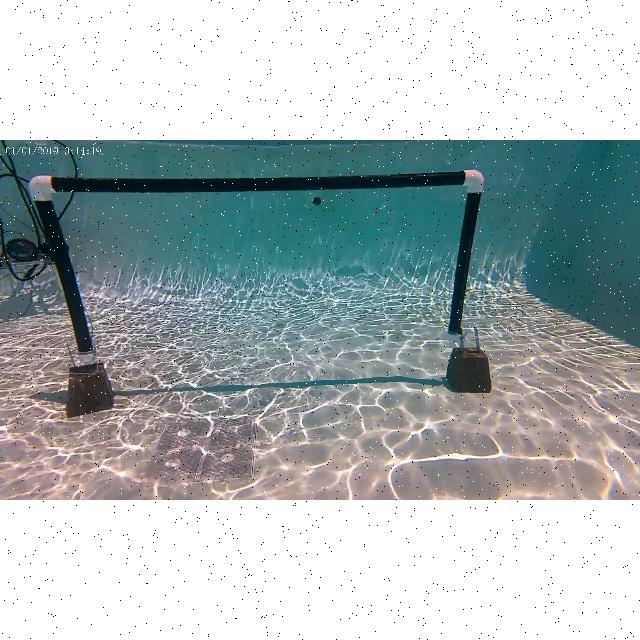prequal gate: (27, 170, 485, 366)
prequal gate leg l: (24, 176, 118, 417)
prequal gate leg r: (446, 172, 494, 394)
